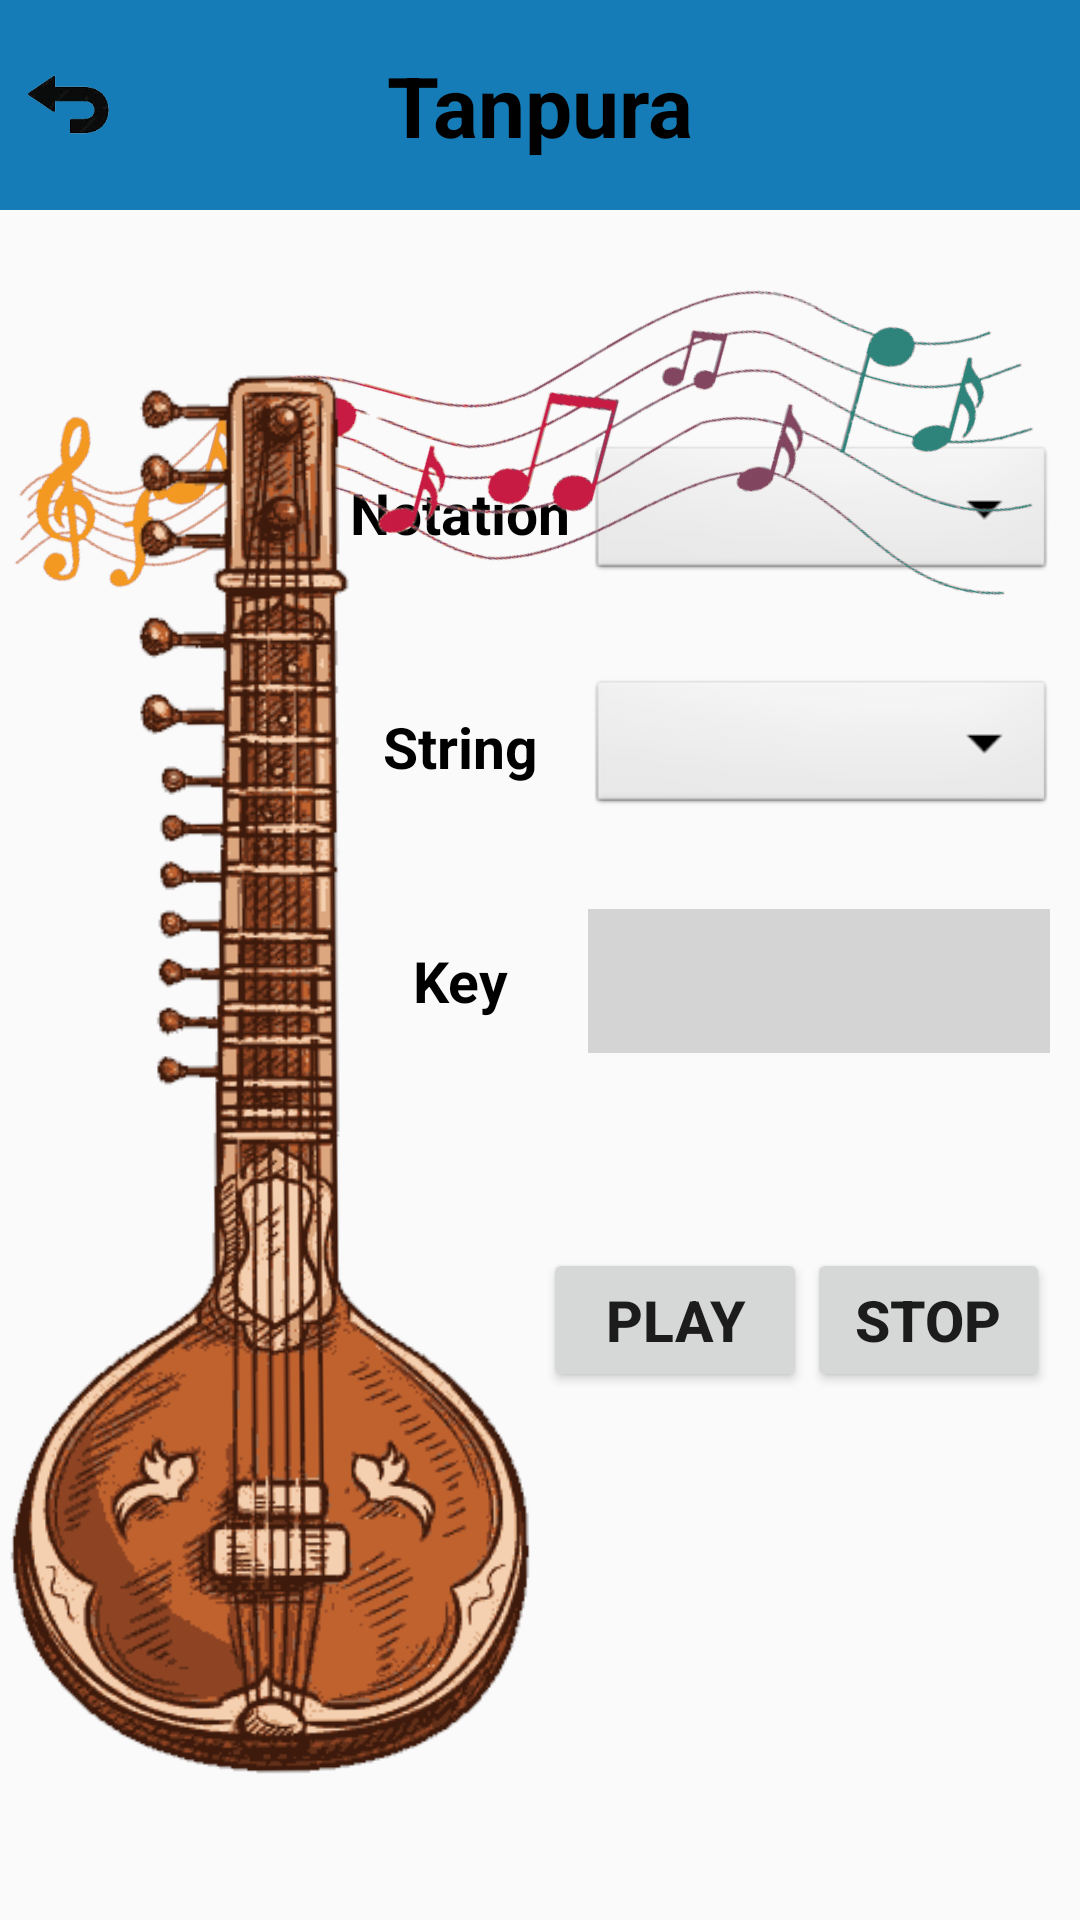

Icons on this 1080 x 1920 Android screen, each with its box as (x1, y1, x2, y2):
back: (28, 76, 109, 134)
